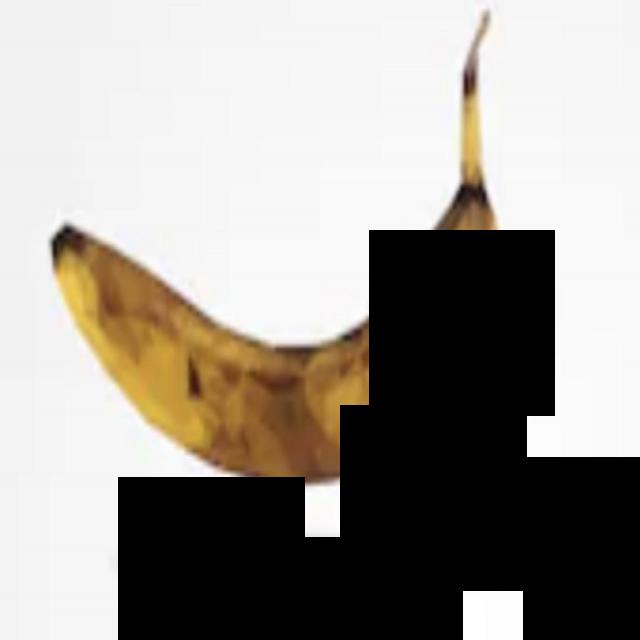banana: (9, 0, 623, 593)
